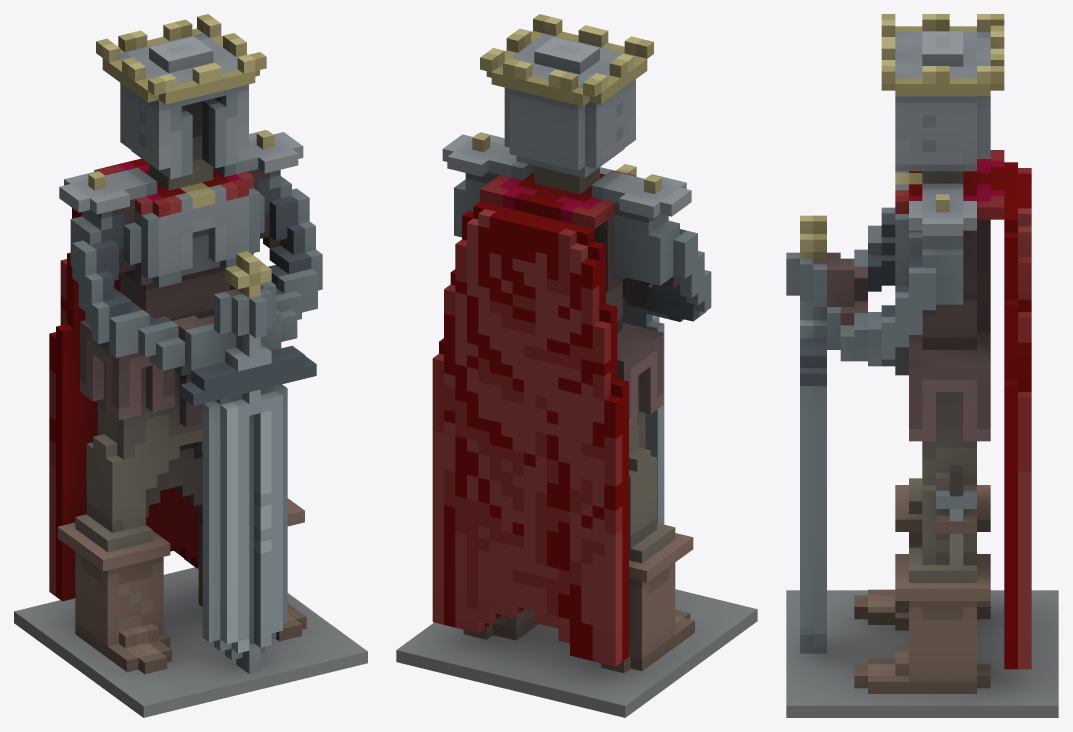
The model's file is chess_king.glb.
3 views of the same model, side by side, from view 1: azimuth 30°, elevation 25°; view 2: azimuth 150°, elevation 25°; view 3: azimuth 270°, elevation 25° (orthographic). The views are drawn at different scales.
Visible parts, largest first — view 1: Geode; view 2: Geode; view 3: Geode.
Part boxes in pixels (x1,y1,x2,y2): Geode: (14, 14, 367, 717); Geode: (396, 14, 757, 717); Geode: (786, 14, 1058, 717).
Bounding box in the file's own units: 20 × 50 × 20.
